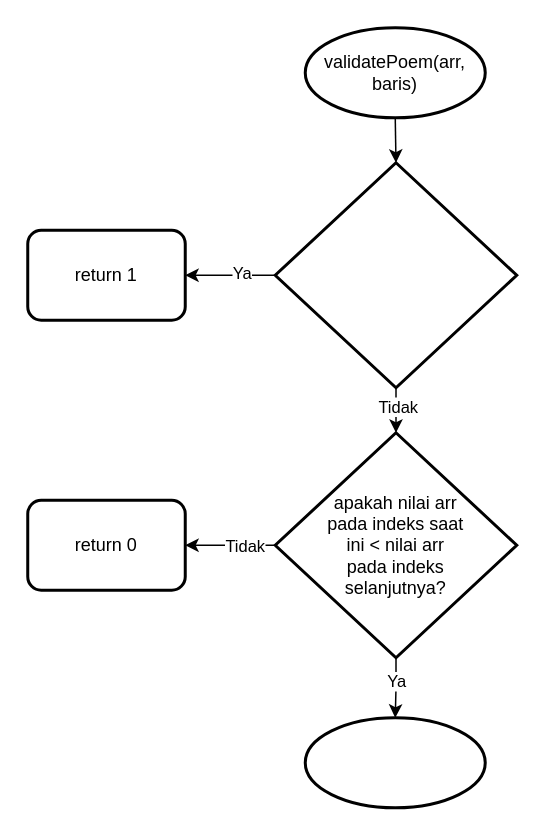
The diagram is 543 pixels wide and 834 high, and some of its shapes have lost their labels. Here are the shapes that lost their labels. From the top down, the centre of each, then its label:
At pixel 395 274: "Apakah jumlah baris == 1 atau == 0?".
At pixel 394 762: "return validatePoem(arr, baris-1)".
